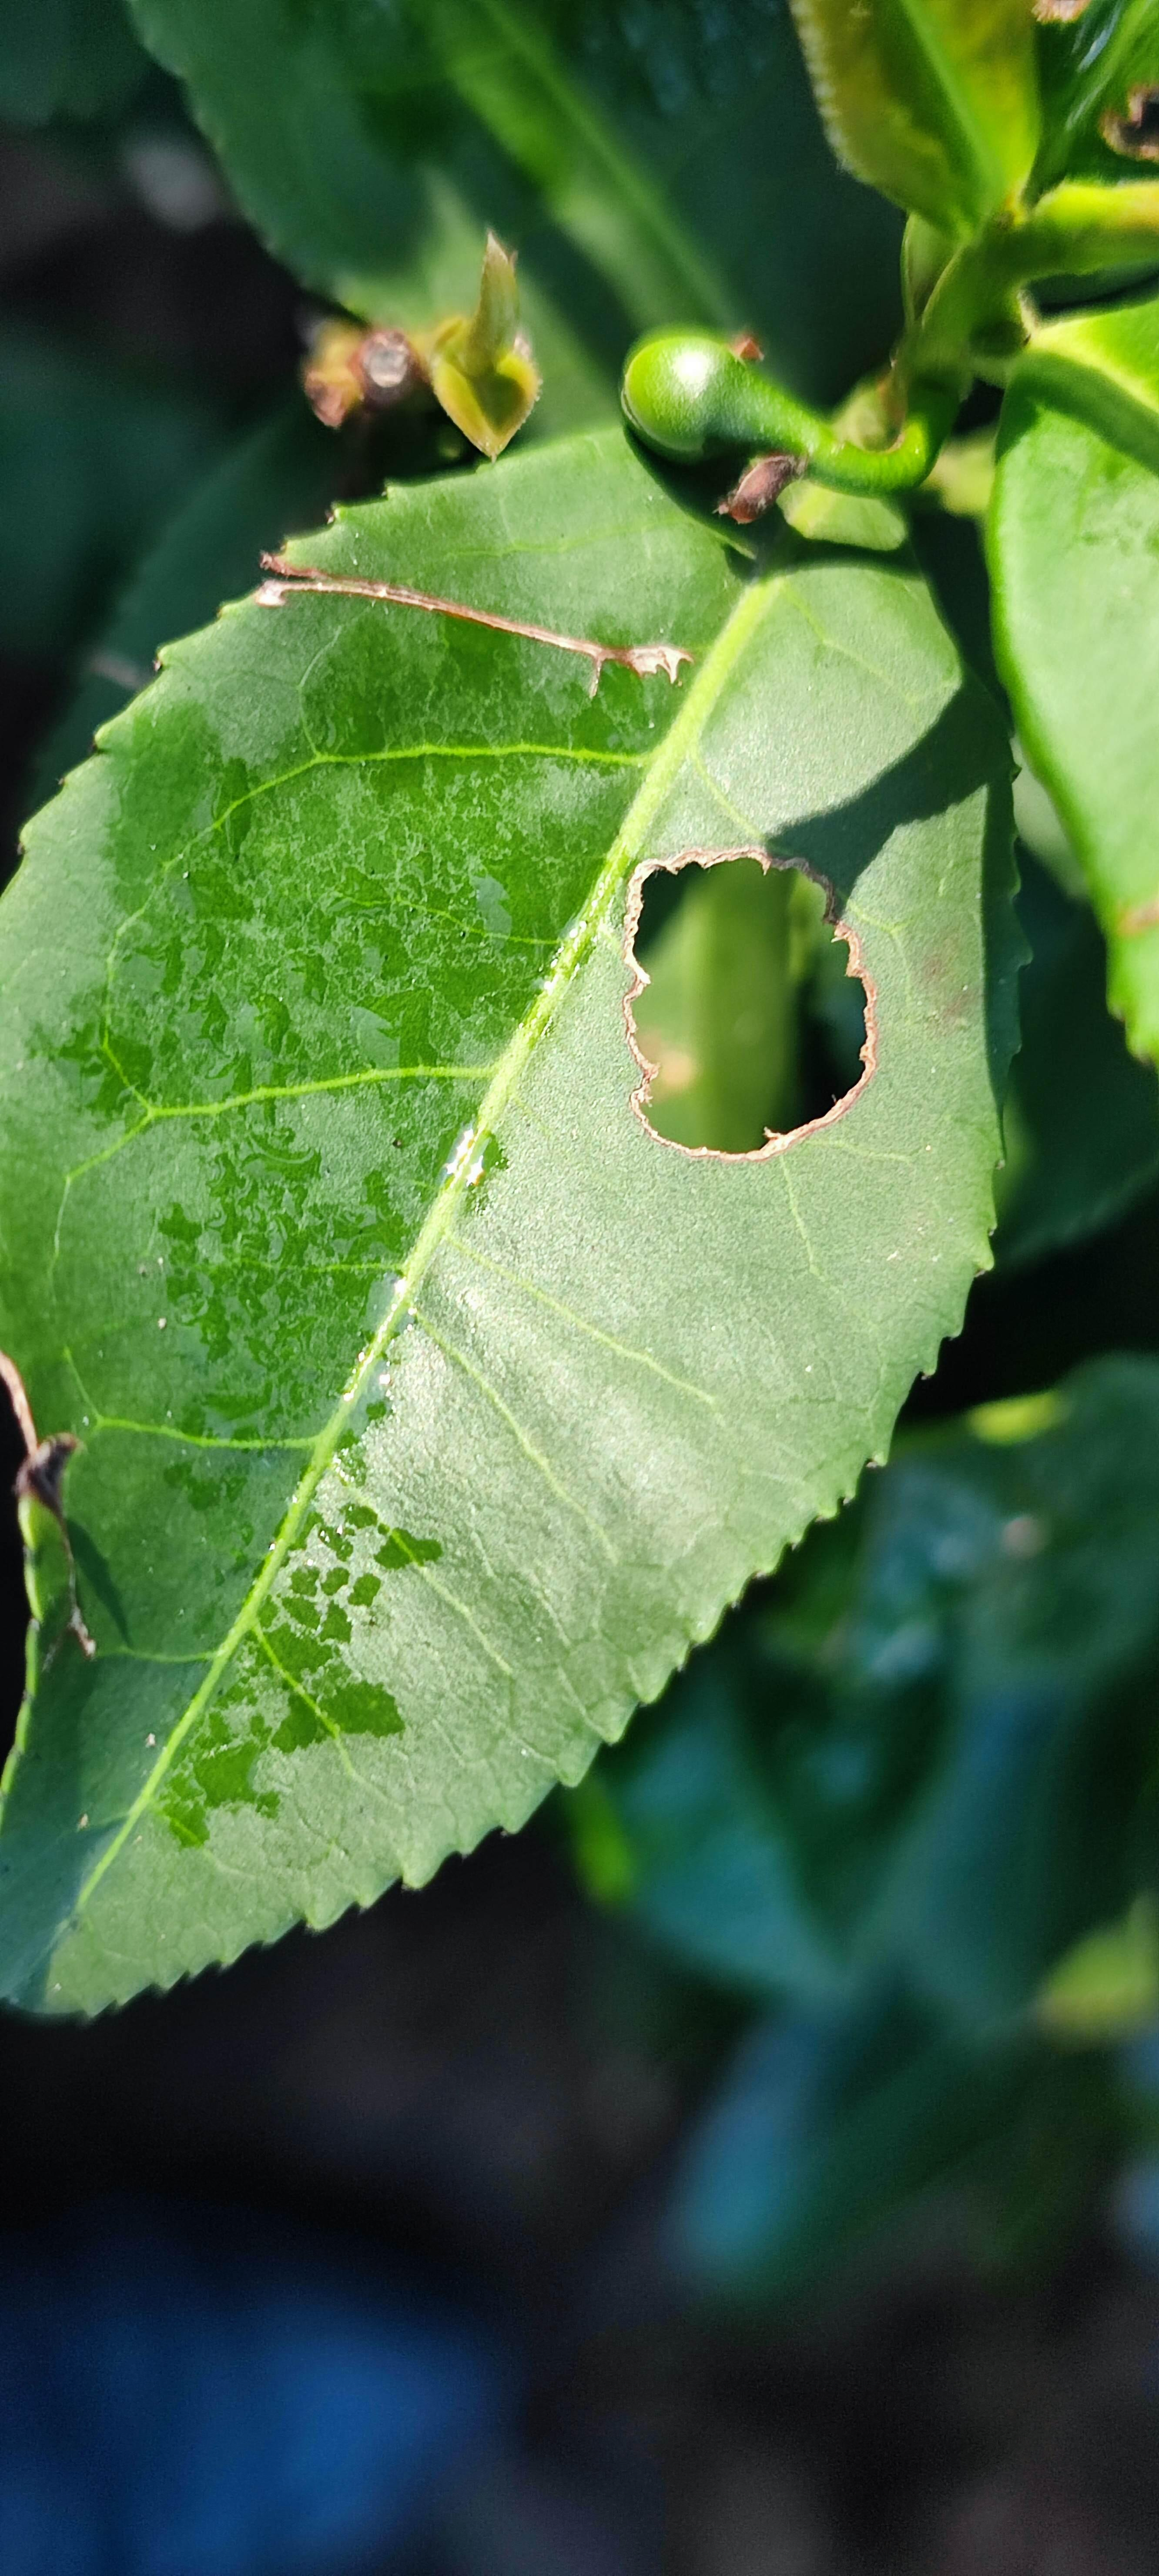chihuo_high: (5, 422, 1036, 2022)
